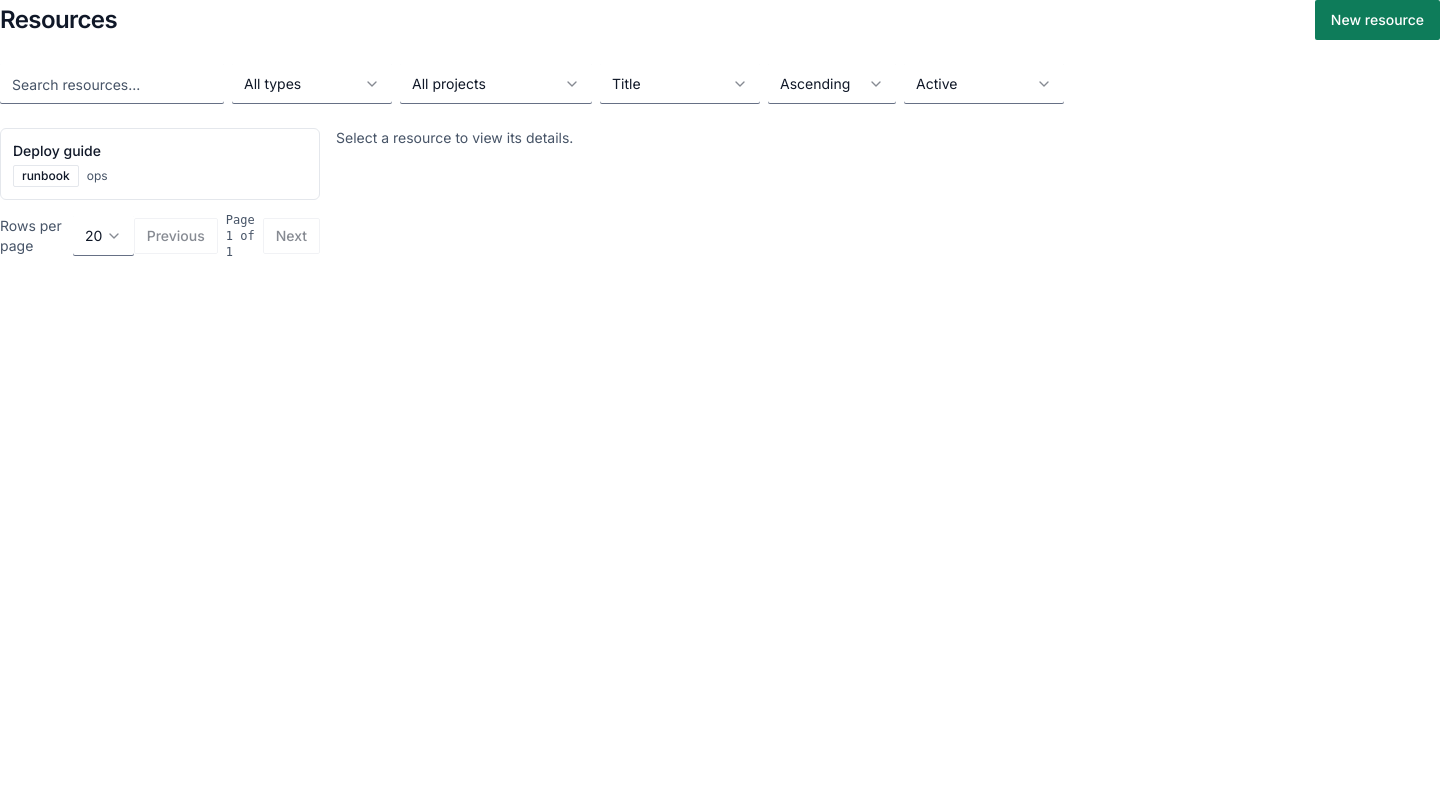
Test case: ResourcesPage › revert-to-version wiring (Part 24d) › the plain 'Add version' button still pre-fills from the CURRENT version (unaffected by revert wiring)
Click the text "Deploy guide". click: (57, 151)
box: [13,141,101,161]
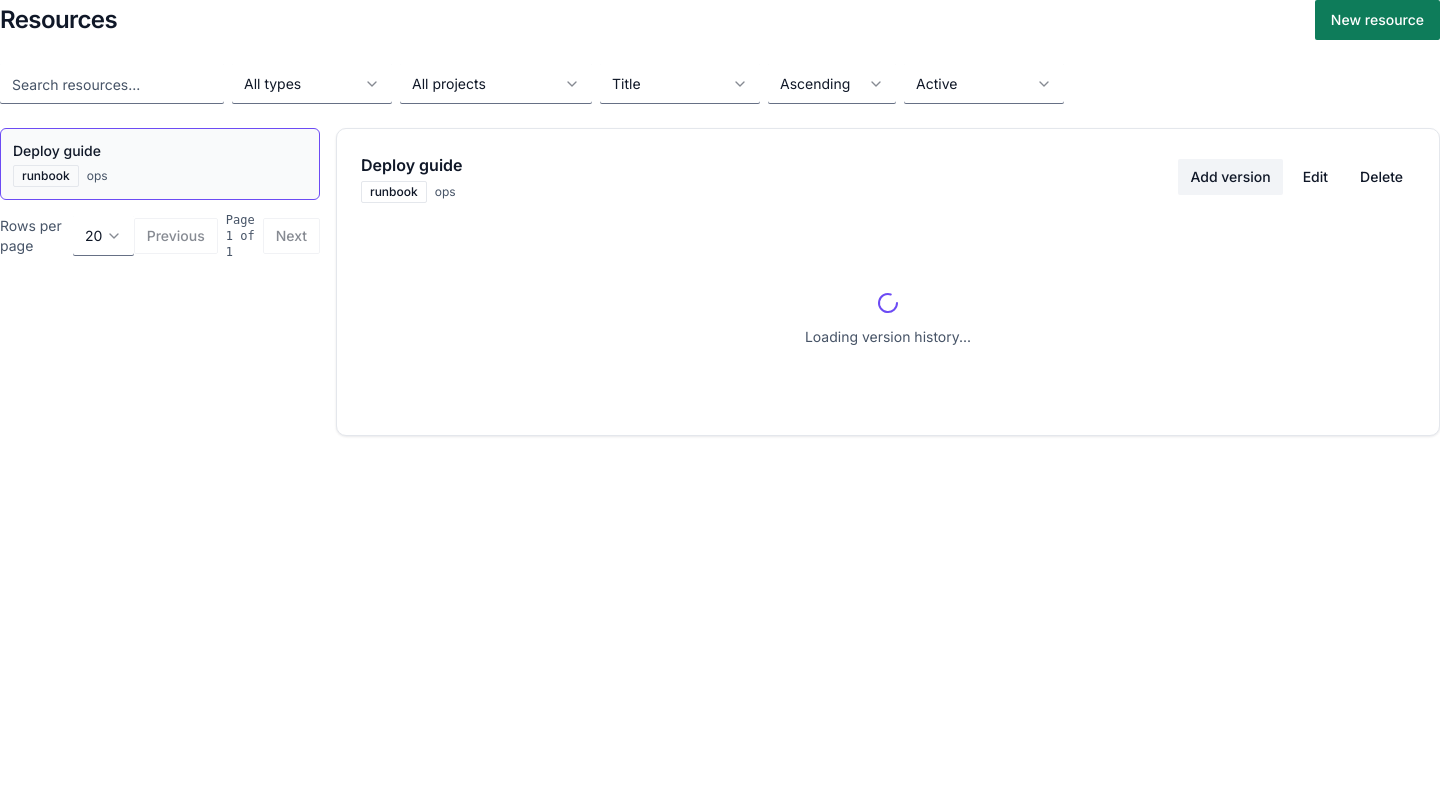
Click the button "Add version". click: (1230, 177)
box: [1178,159,1283,195]
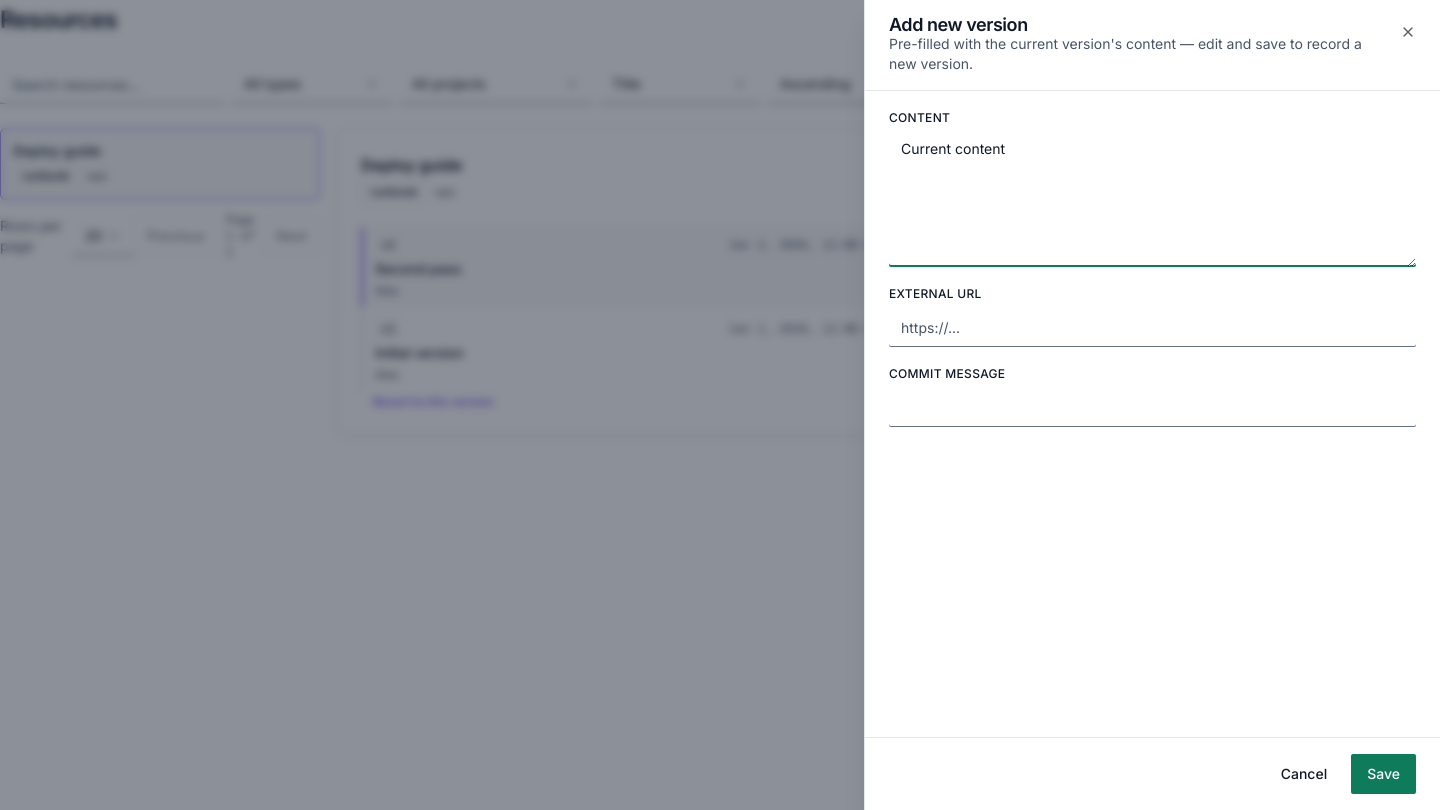
Expected: the text box labelled "Content" holds "Current content", [889,131,1416,267]
